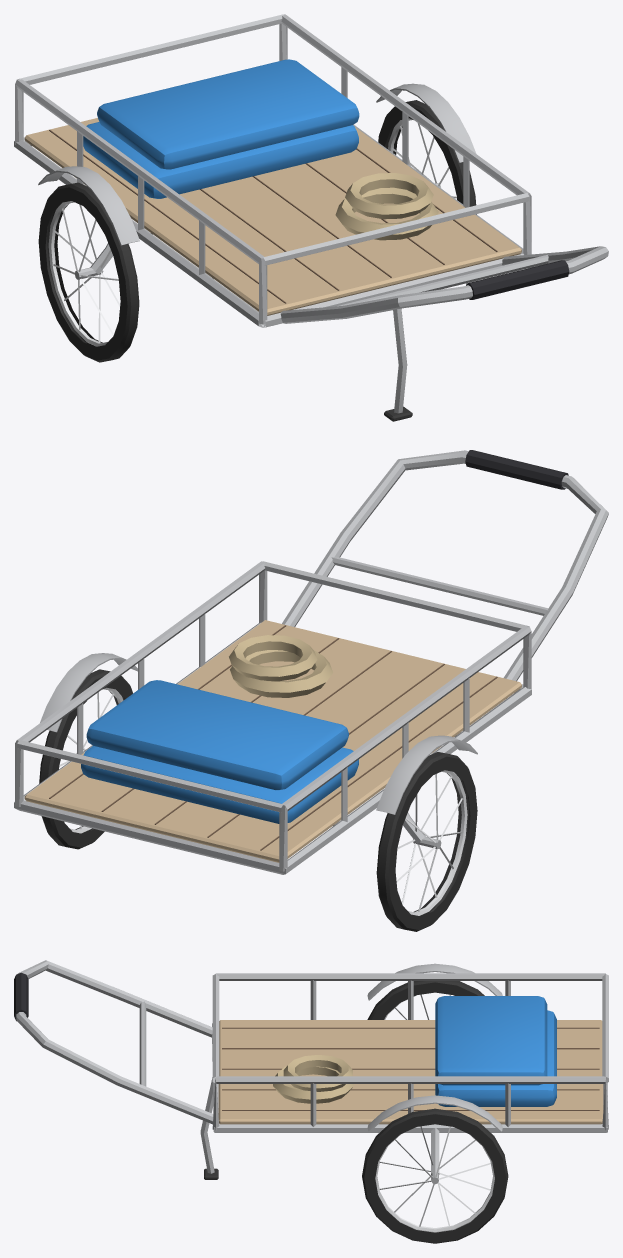
Rendered from handcart.glb.
The picture shows the model from 3 angles, top to bottom: view 1: azimuth 30°, elevation 25°; view 2: azimuth 150°, elevation 25°; view 3: azimuth 270°, elevation 25°; orthographic projection. The views are drawn at different scales.
Visible parts, largest first — view 1: handcart_body; view 2: handcart_body; view 3: handcart_body.
Boxes of the visible parts, x1,y1,x2,y2 form: handcart_body: (14,14,608,421); handcart_body: (14,450,608,931); handcart_body: (14,960,608,1243).
Size of what is drawn, in the model's own units: 1.37 by 0.84 by 2.44.
